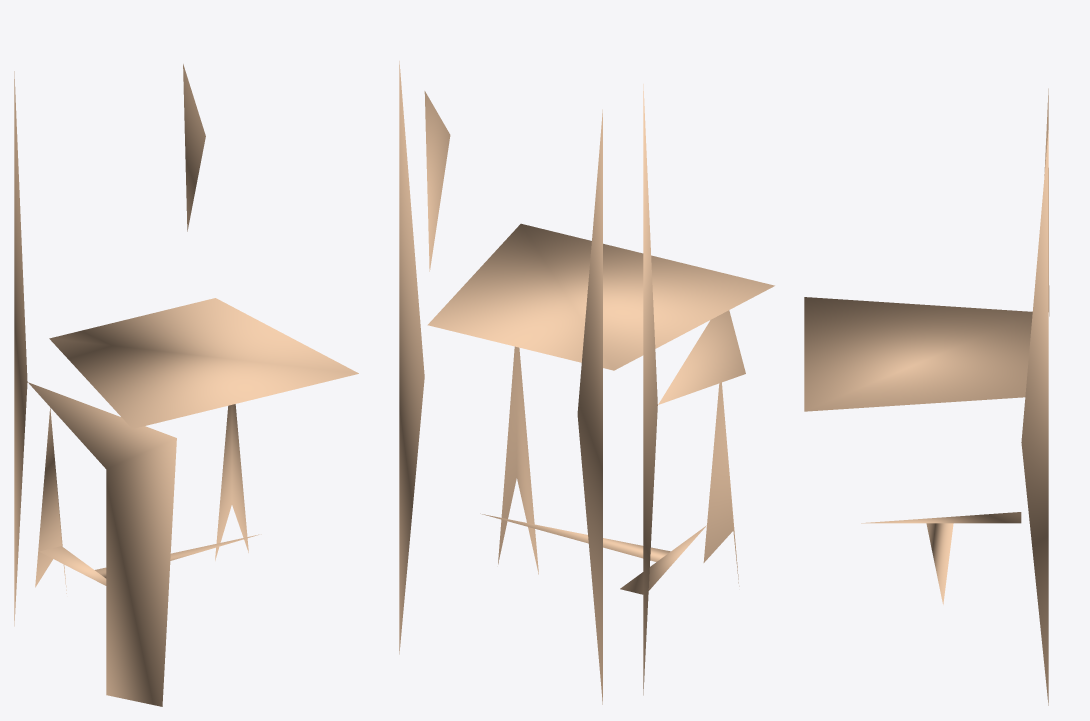
Rendered from chair-low.glb.
3 views of the same model, side by side, from view 1: azimuth 30°, elevation 25°; view 2: azimuth 150°, elevation 25°; view 3: azimuth 270°, elevation 25° (orthographic). The views are drawn at different scales.
Visible parts, largest first — view 1: chair(Clone) baked; view 2: chair(Clone) baked; view 3: chair(Clone) baked.
Boxes of the visible parts, <box> form: chair(Clone) baked: <box>14,64,358,706</box>; chair(Clone) baked: <box>399,61,774,704</box>; chair(Clone) baked: <box>804,88,1049,705</box>.
Size of the model in its own units: 0.2 by 0.47 by 0.2.
